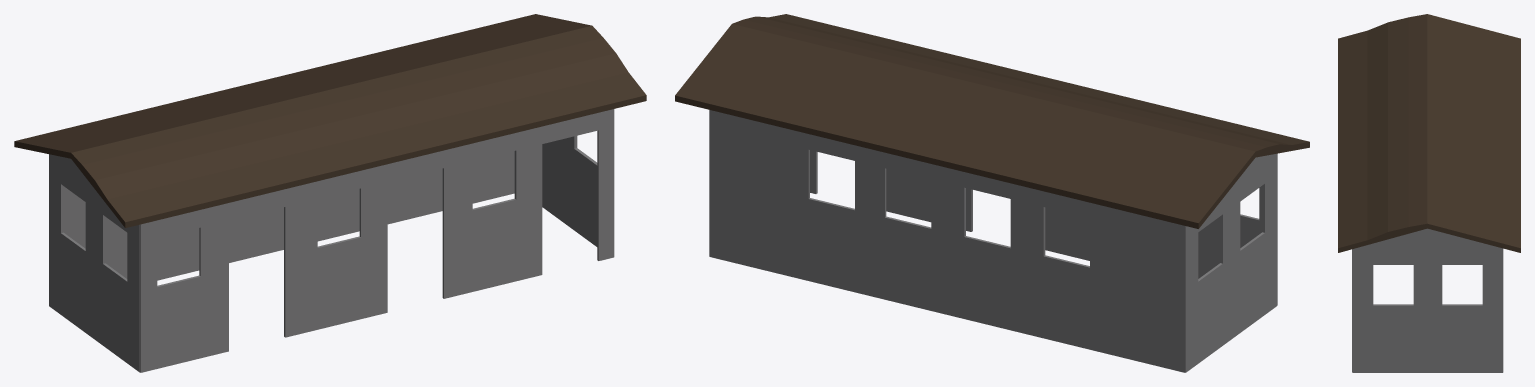
The picture shows the model from 3 angles, left to right: view 1: azimuth 30°, elevation 25°; view 2: azimuth 150°, elevation 25°; view 3: azimuth 270°, elevation 25°; orthographic projection. The views are drawn at different scales.
Visible parts, largest first — view 1: shed; view 2: shed; view 3: shed.
Boxes of the visible parts, bbox=[...] form: shed: bbox=[14, 14, 646, 372]; shed: bbox=[675, 14, 1309, 372]; shed: bbox=[1338, 14, 1520, 372].
Size of the model in its own units: 12 by 4.23 by 4.42.
